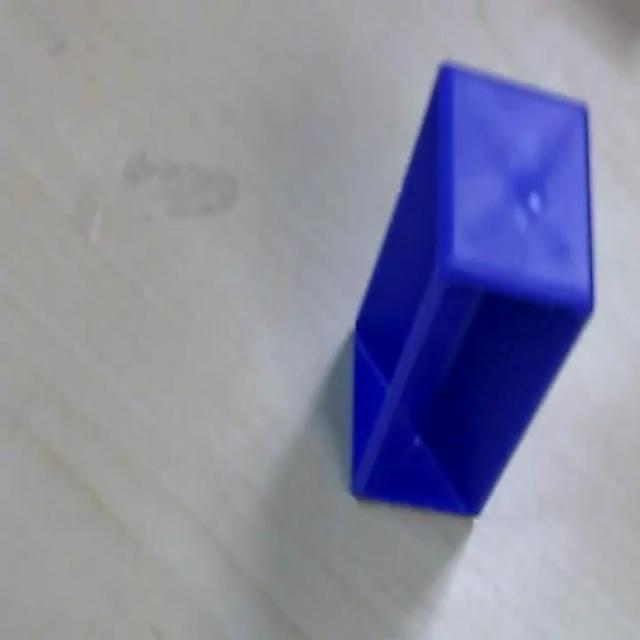blue_block: (350, 59, 598, 520)
